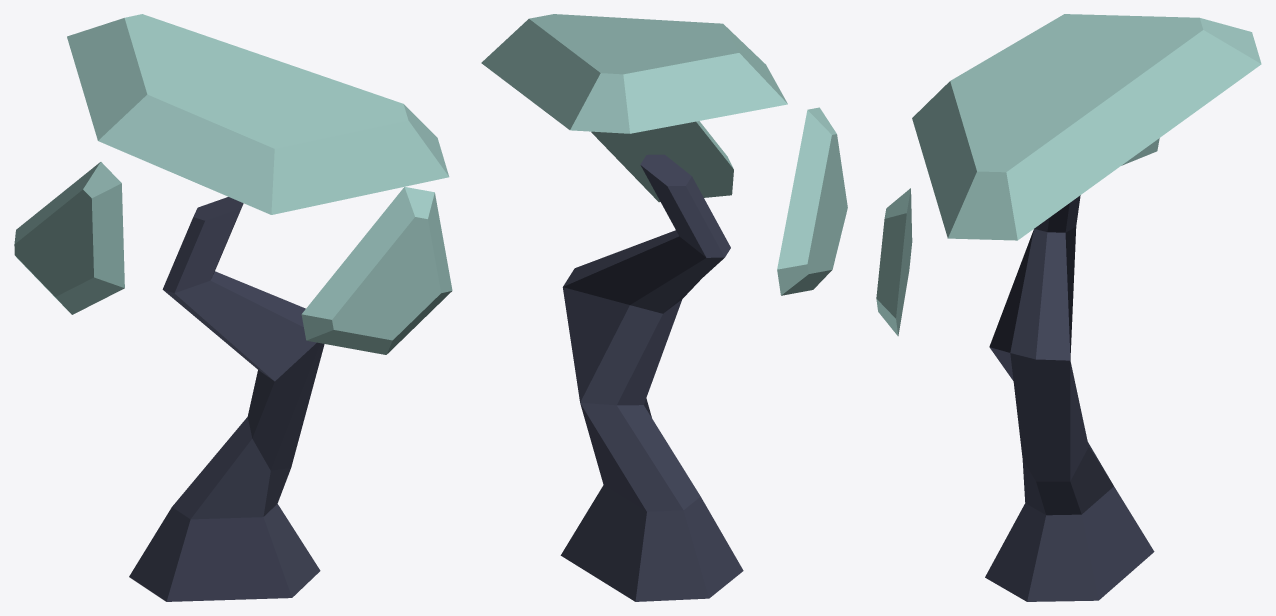
The model's file is Tree_p01.fbx.
3 renders of one model, left to right at view 1: azimuth 30°, elevation 25°; view 2: azimuth 150°, elevation 25°; view 3: azimuth 270°, elevation 25°, orthographic. The views are drawn at different scales.
Parts seen in each view (by area): view 1: Decosol01.009; view 2: Decosol01.009; view 3: Decosol01.009.
Boxes of the visible parts, x1,y1,x2,y2 form: Decosol01.009: (14,14,452,601); Decosol01.009: (481,14,847,601); Decosol01.009: (876,14,1261,601).
Size of the model in its own units: 90.18 by 122 by 80.47.
